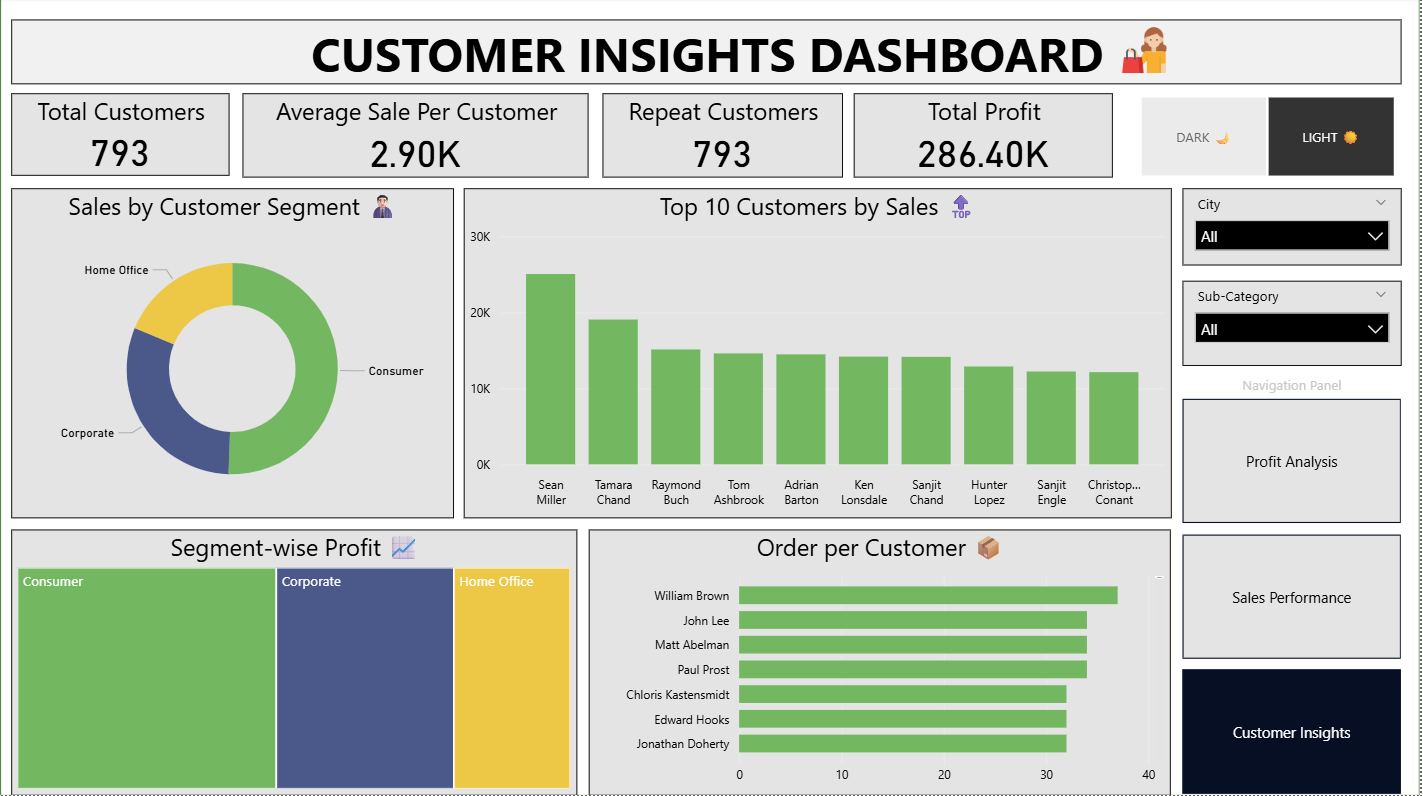

What the dashboard file says about the page in this screenshot:
{"tool":"powerbi","page":{"name":"Customer Insights","canvas":[1280,720],"ordinal":2},"visuals":[{"type":"shape","box":[0,0,1280.3,720.4],"z":0},{"type":"card","title":"Total Customers","fields":{"Values":["SalesData.Customer ID"]},"box":[10,87.1,196.5,74.6],"z":1000},{"type":"card","title":"Average Sale Per Customer","fields":{"Values":["SalesData.Average Sale Per Customer"]},"box":[218.9,87.1,312.2,75.9],"z":2000},{"type":"card","title":"Repeat Customers","fields":{"Values":["SalesData.Repeat Customers"]},"box":[543.6,87.1,216.4,75.9],"z":3000},{"type":"donutChart","title":"Sales by Customer Segment 👨🏻💼","fields":{"Category":["SalesData.Segment"],"Y":["SalesData.Sales"]},"box":[10,172.9,399.3,297.3],"z":4000},{"type":"clusteredColumnChart","title":"Top 10 Customers by Sales 🔝","fields":{"Category":["SalesData.Customer Name"],"Y":["SalesData.Sales"]},"box":[418,172.9,638.2,297.3],"z":5000},{"type":"clusteredBarChart","title":"Order per Customer 📦","fields":{"Category":["SalesData.Customer Name"],"Y":["SalesData.Order ID"]},"box":[531.2,480.2,525,240.1],"z":6000},{"type":"treemap","title":"Segment-wise Profit 📈","fields":{"Group":["SalesData.Segment"],"Values":["SalesData.Profit"]},"box":[9.6,480.3,510.5,240.1],"z":7000},{"type":"slicer","fields":{"Values":["Theme.Theme"]},"box":[1002.6,83.3,277.4,84.6],"z":8000},{"type":"textbox","title":"CUSTOMER INSIGHTS DASHBOARD","box":[10,19.9,1253.9,58.5],"z":9000},{"type":"pageNavigator","title":"Navigation Panel","box":[1066.3,341.5,197.2,378.7],"z":10000},{"type":"card","title":"Total Profit","fields":{"Values":["SalesData.Profit"]},"box":[770,87.1,233.9,75.9],"z":11000},{"type":"image","box":[1003.8,20.3,55.3,55.3],"z":12000},{"type":"slicer","fields":{"Values":["SalesData.City"]},"box":[1066.3,172.4,197.2,69.9],"z":12001},{"type":"slicer","fields":{"Values":["SalesData.Sub-Category"]},"box":[1066.3,255.9,197.2,76.6],"z":12002}]}

Visuals, with their boxes in screenshot pixels (x1, y1, x2, y2), scaled from the page's 1280x720 canvas onto the 1423x796 screenshot:
shape: pyautogui.locateOnScreen(0, 0, 1422, 795)
"Total Customers" card: pyautogui.locateOnScreen(11, 96, 230, 179)
"Average Sale Per Customer" card: pyautogui.locateOnScreen(243, 96, 590, 180)
"Repeat Customers" card: pyautogui.locateOnScreen(604, 96, 845, 180)
"Sales by Customer Segment 👨🏻💼" donutChart: pyautogui.locateOnScreen(11, 191, 455, 520)
"Top 10 Customers by Sales 🔝" clusteredColumnChart: pyautogui.locateOnScreen(465, 191, 1174, 520)
"Order per Customer 📦" clusteredBarChart: pyautogui.locateOnScreen(591, 531, 1174, 795)
"Segment-wise Profit 📈" treemap: pyautogui.locateOnScreen(11, 531, 578, 795)
slicer - Theme.Theme: pyautogui.locateOnScreen(1115, 92, 1422, 186)
"CUSTOMER INSIGHTS DASHBOARD" textbox: pyautogui.locateOnScreen(11, 22, 1405, 87)
"Navigation Panel" pageNavigator: pyautogui.locateOnScreen(1185, 378, 1405, 795)
"Total Profit" card: pyautogui.locateOnScreen(856, 96, 1116, 180)
image: pyautogui.locateOnScreen(1116, 22, 1177, 84)
slicer - SalesData.City: pyautogui.locateOnScreen(1185, 191, 1405, 268)
slicer - SalesData.Sub-Category: pyautogui.locateOnScreen(1185, 283, 1405, 368)
